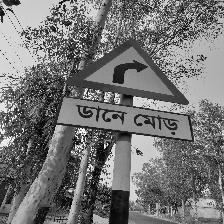Right-turn: (56, 39, 194, 143)
